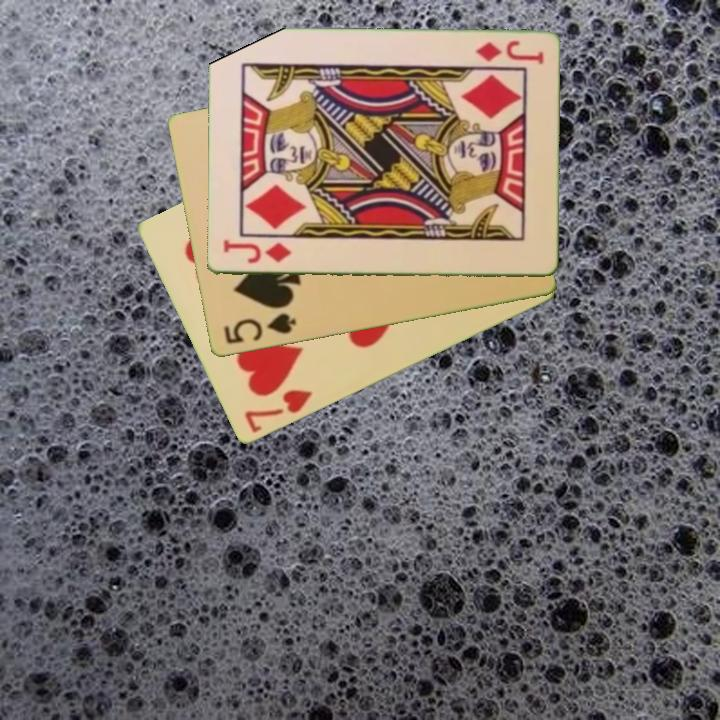5s: (220, 310, 299, 348)
7h: (240, 386, 316, 437)
Jd: (471, 37, 546, 68), (219, 237, 294, 267)
